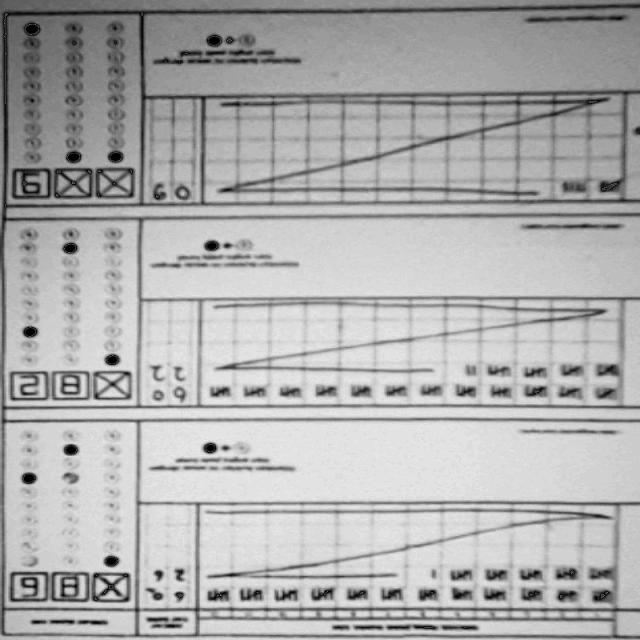Suara: (1, 367, 134, 409), (11, 162, 145, 203), (8, 566, 142, 607)
